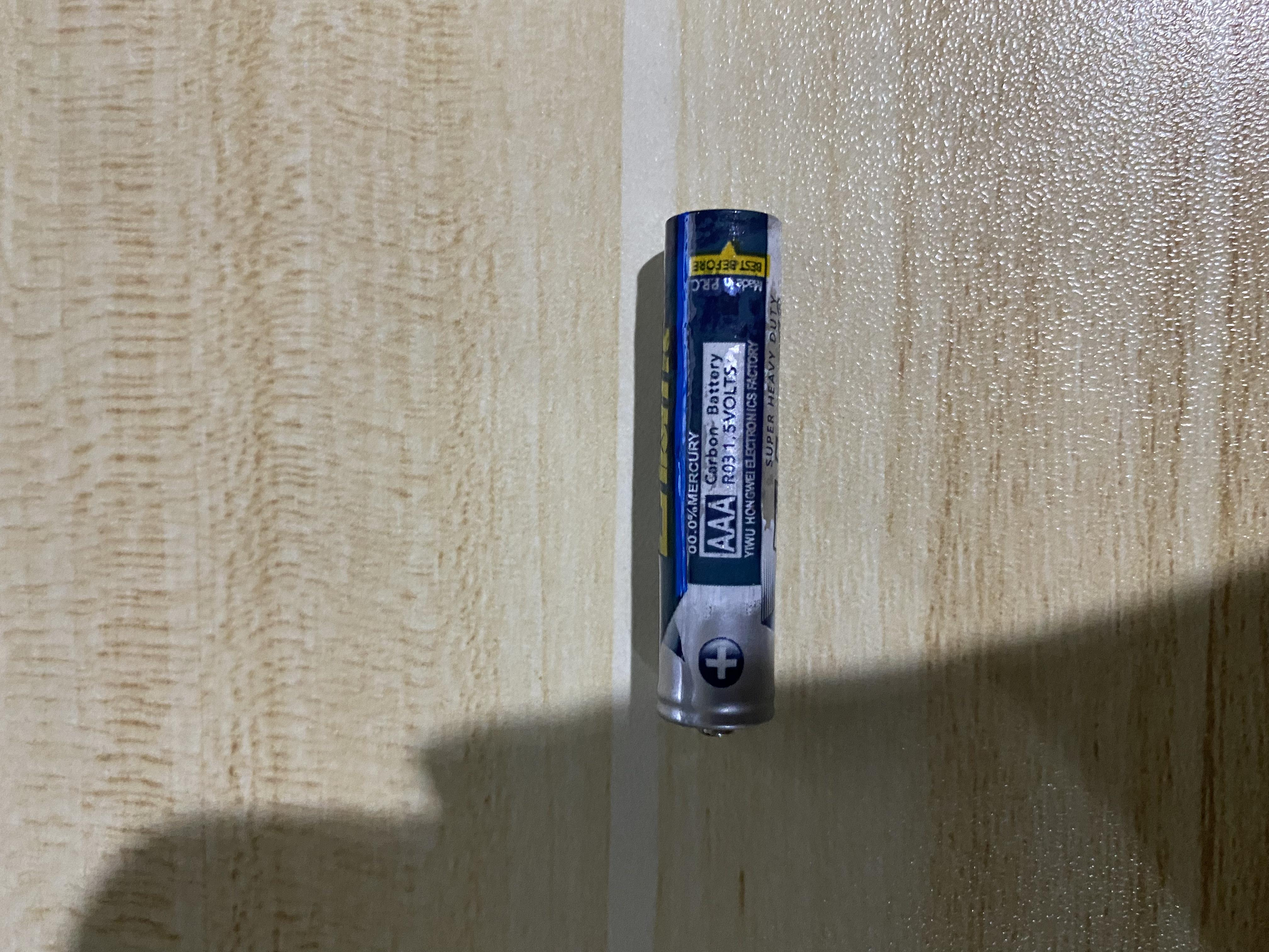AAA: (285, 489, 992, 587)
